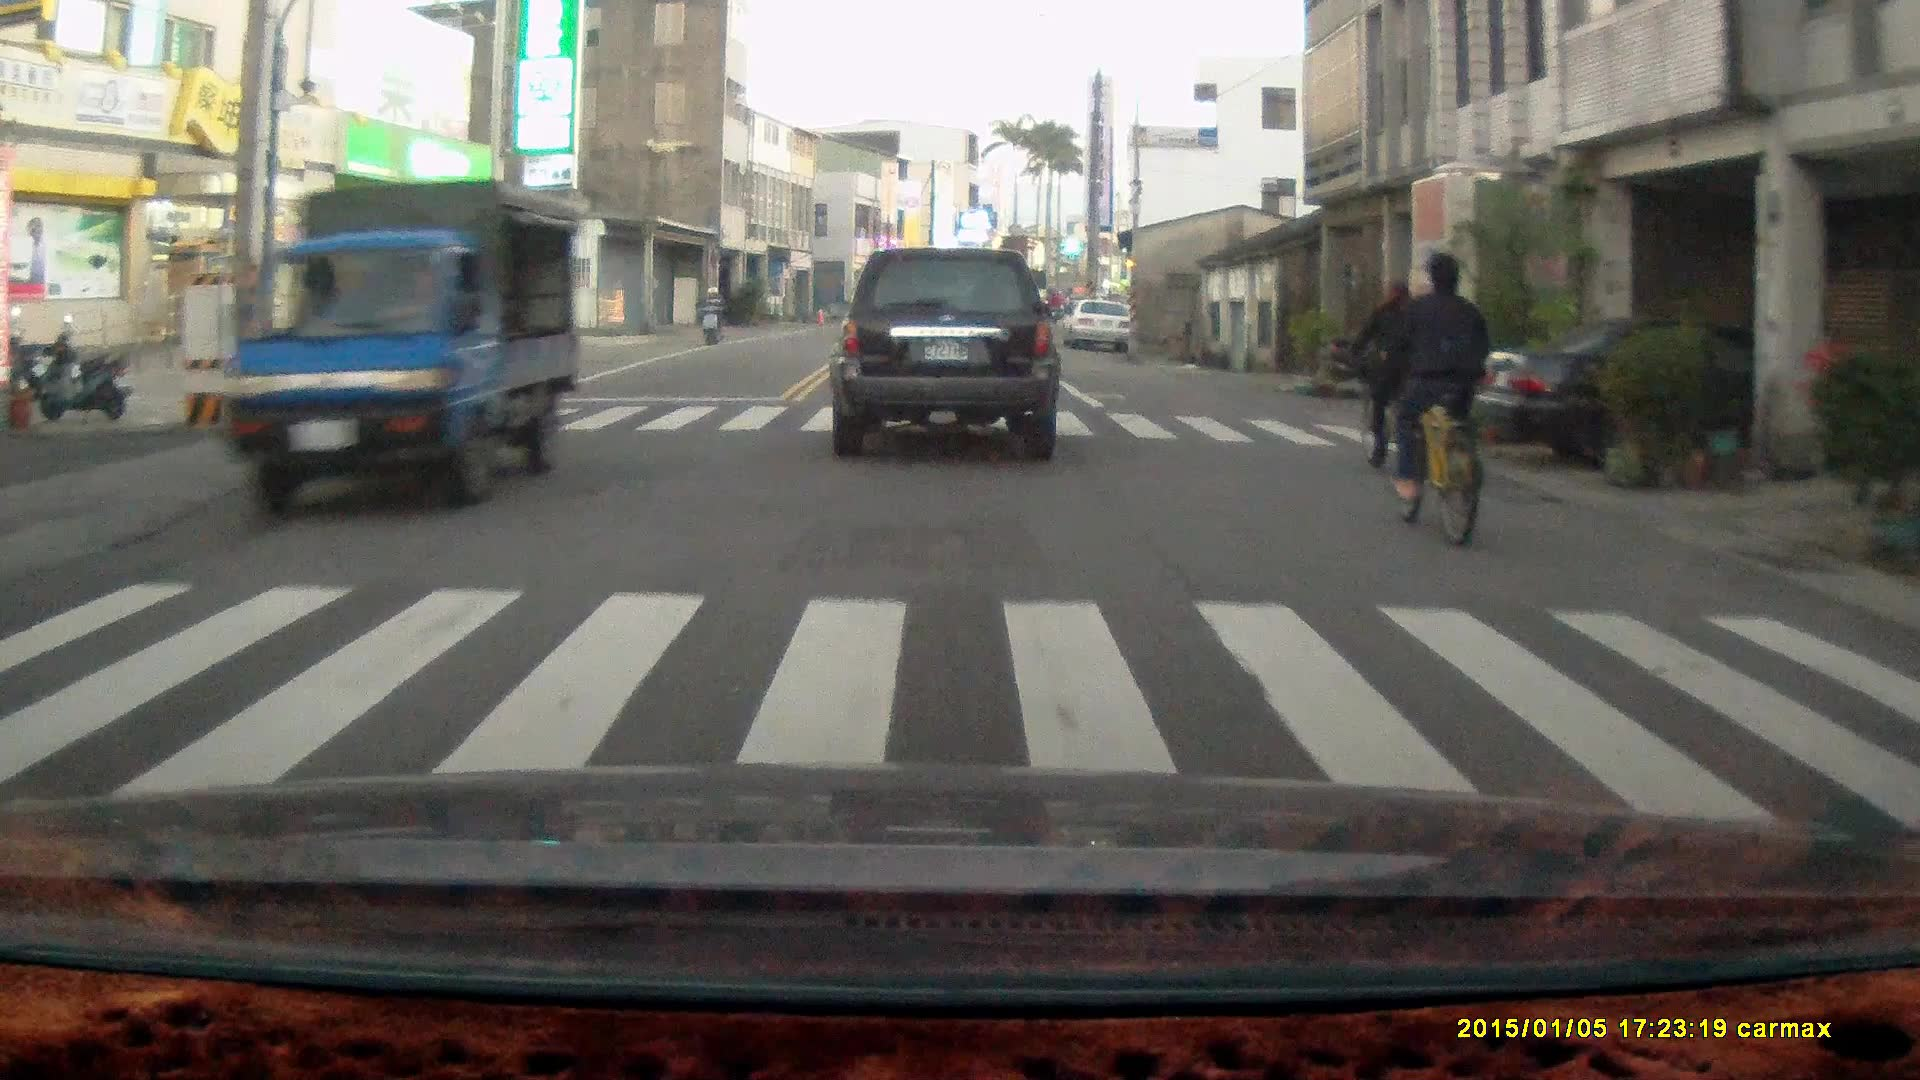rider: (1375, 254, 1489, 553), (1347, 279, 1424, 482), (697, 281, 724, 346)
vehicle: (225, 175, 582, 513), (1468, 315, 1905, 482), (827, 246, 1061, 461), (1060, 303, 1136, 357)
